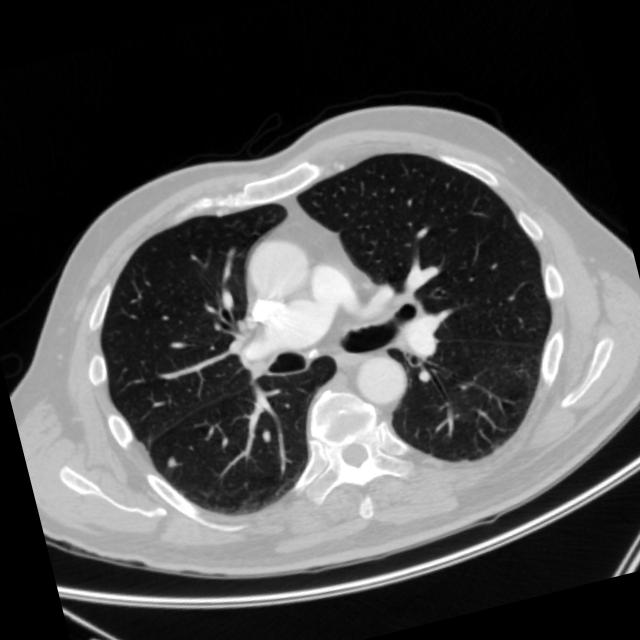nodule: (158, 448, 182, 472)
